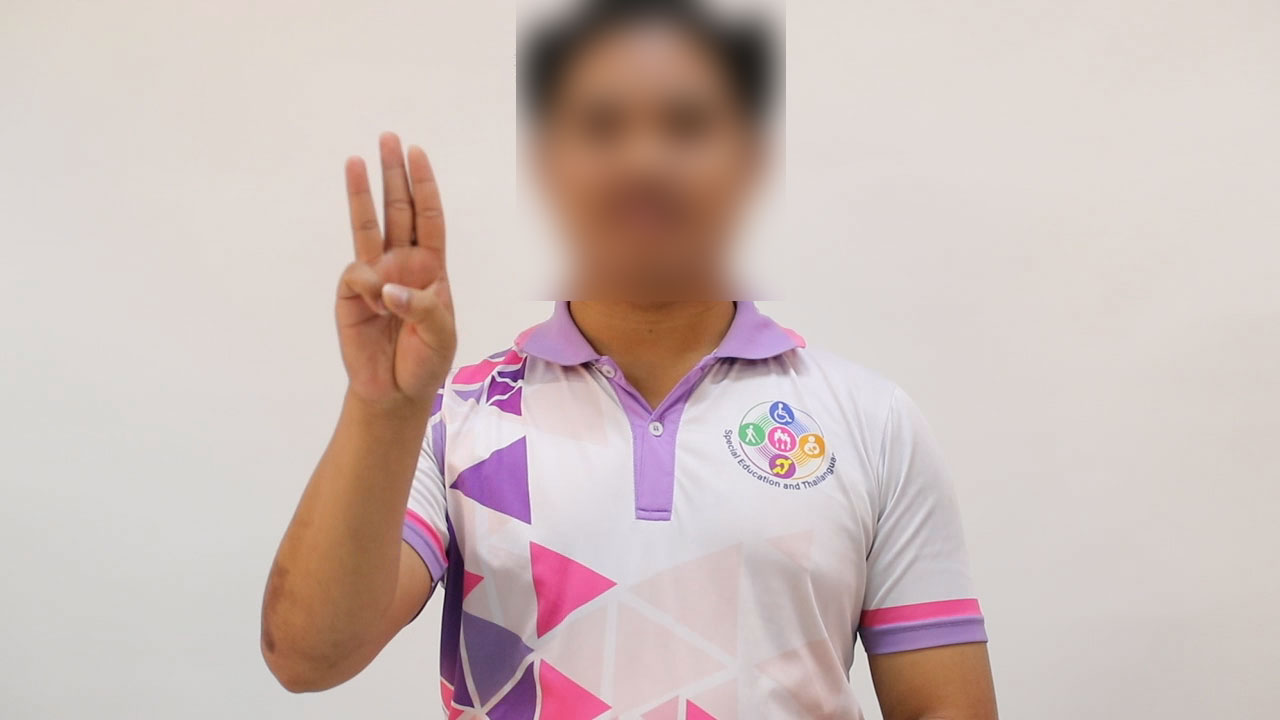wor: (326, 123, 472, 429)
